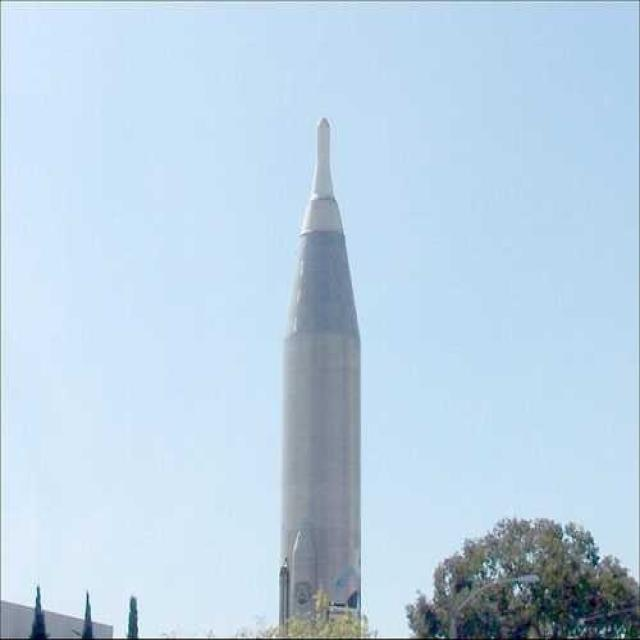missile: (285, 110, 370, 640)
